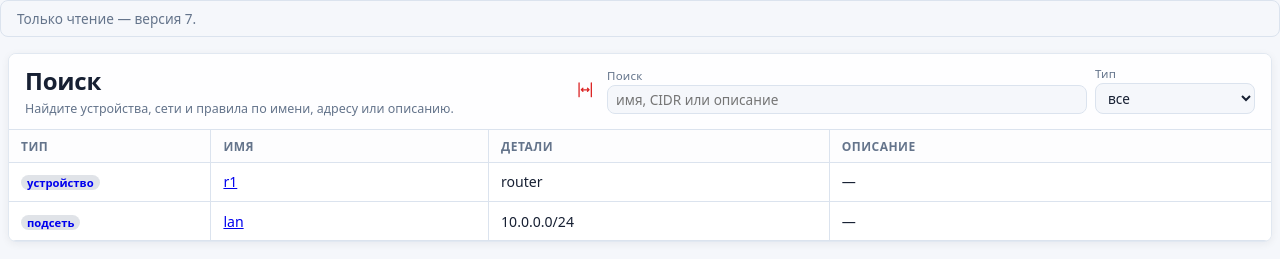
Test: SearchPage › filters by query and reports an empty result
Expected: the link "r1" is shown, x1=223 y1=172 x2=237 y2=191
In the search field: (847, 100) x1=607 y1=85 x2=1087 y2=114, type "нетакогообъекта"
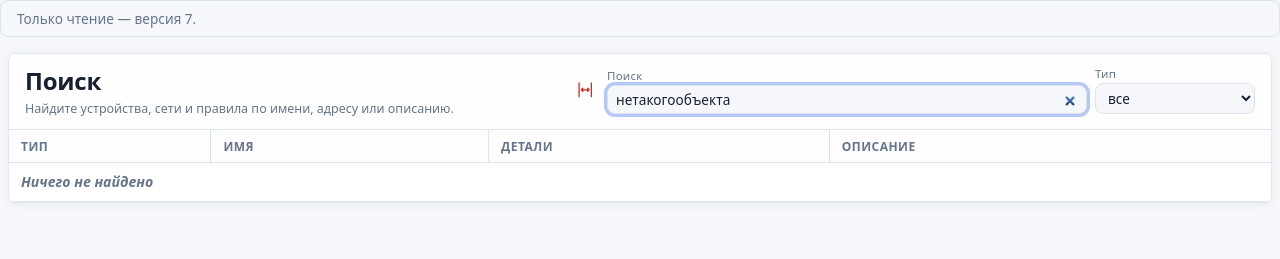
Result: the text "Ничего не найдено" is shown at x1=9 y1=162 x2=1271 y2=202
